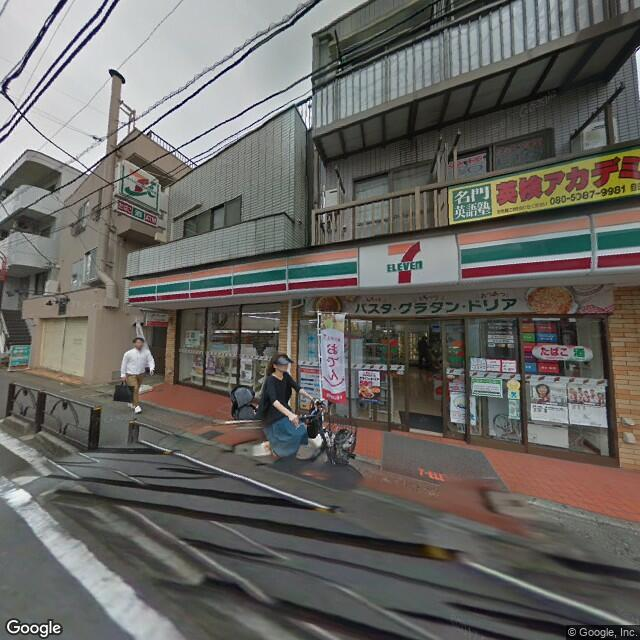7-eleven: (125, 201, 639, 311), (118, 159, 159, 211)
